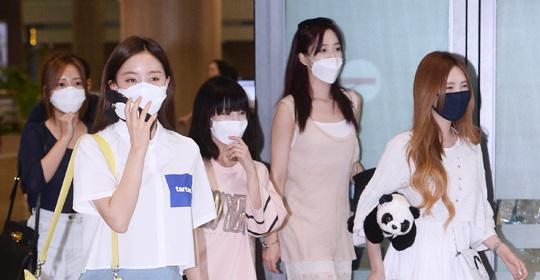OK: (115, 66, 172, 123), (206, 101, 252, 147), (436, 77, 479, 120), (49, 72, 91, 114)
WRONG: (308, 43, 350, 85)
